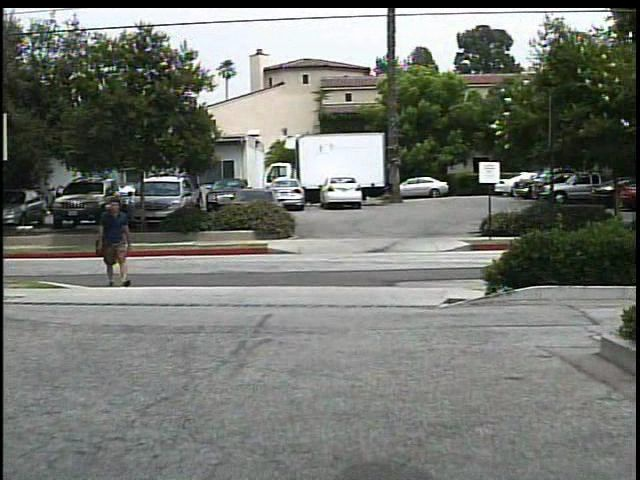person: (95, 194, 137, 288)
